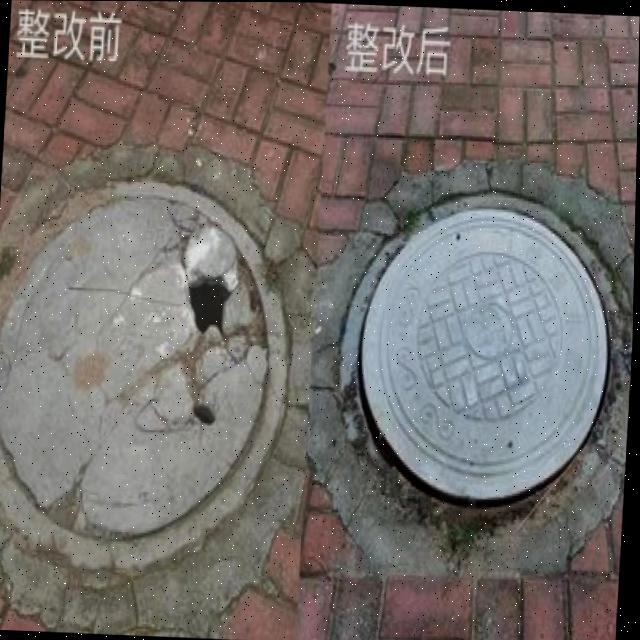manhole: (0, 147, 304, 571)
